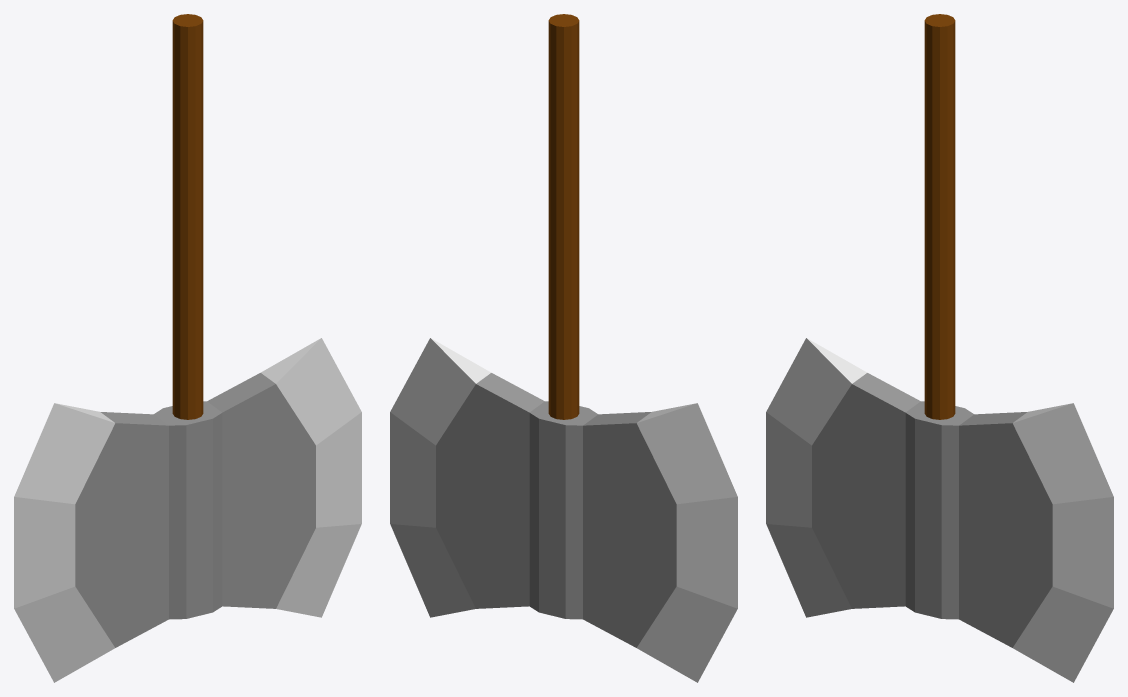
The model's file is Swinging Axe.glb.
The picture shows the model from 3 angles, left to right: view 1: azimuth 30°, elevation 25°; view 2: azimuth 150°, elevation 25°; view 3: azimuth 330°, elevation 25°; orthographic projection.
Visible parts, largest first — view 1: Swinging Axe; view 2: Swinging Axe; view 3: Swinging Axe.
Boxes of the visible parts, x1,y1,x2,y2 form: Swinging Axe: [14, 14, 361, 682]; Swinging Axe: [390, 14, 737, 682]; Swinging Axe: [766, 14, 1113, 682].
Bounding box in the file's own units: 2.6 × 4.5 × 0.3.
